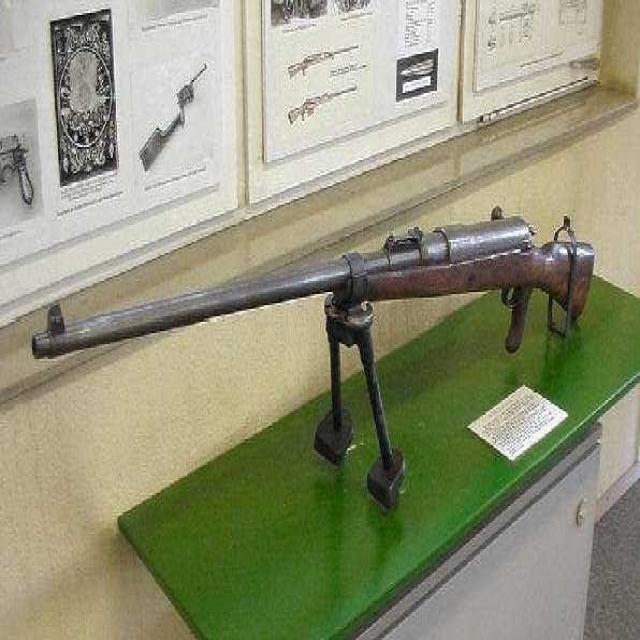weapon: (21, 132, 606, 437)
